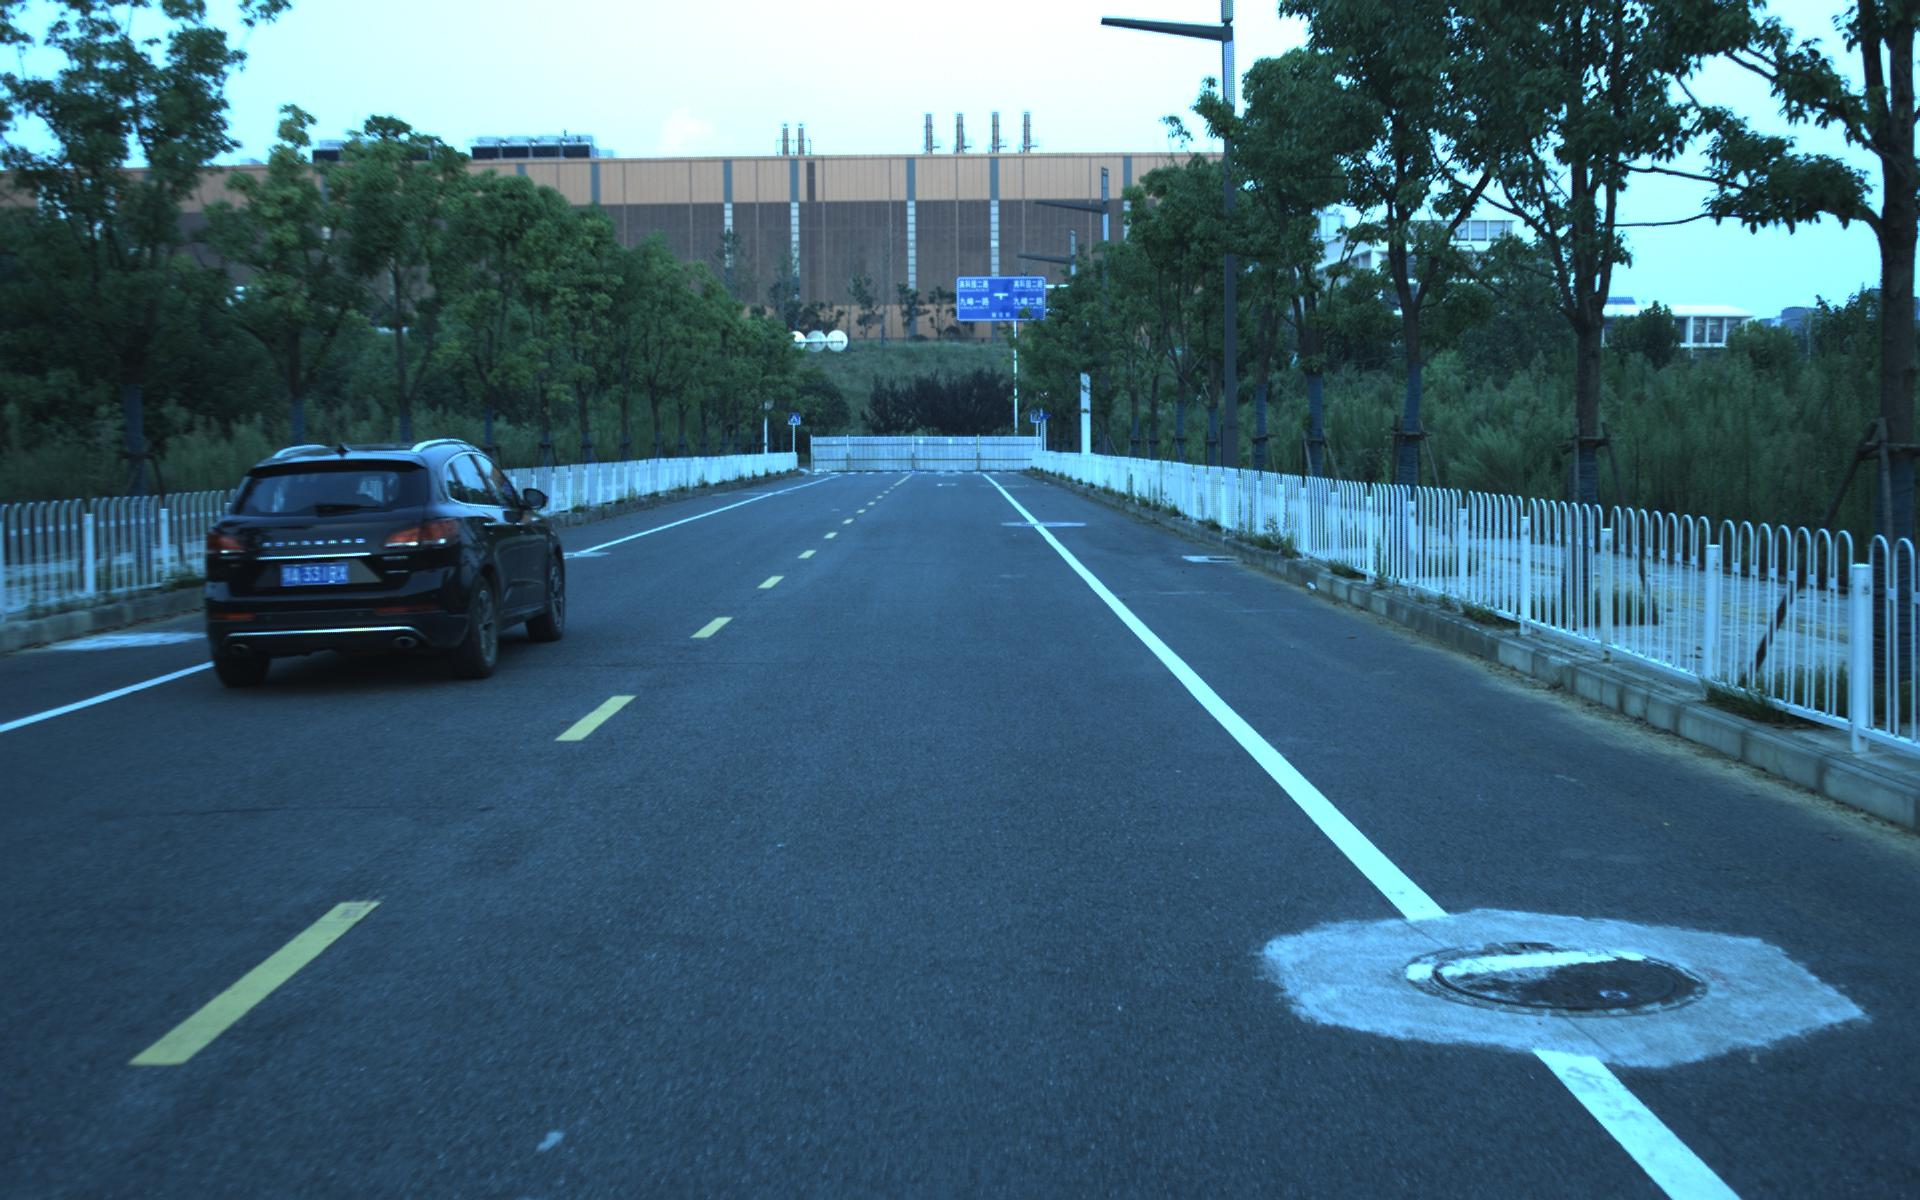Car: (182, 430, 572, 693)
